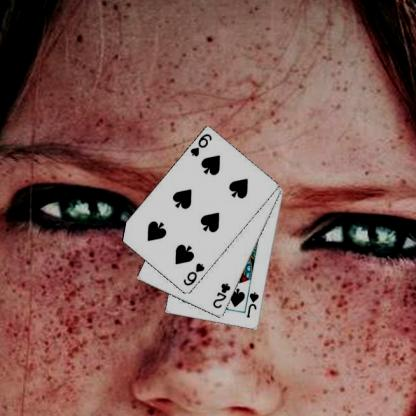2C: (210, 280, 231, 310)
6S: (180, 260, 206, 288), (188, 131, 213, 158)
JS: (244, 289, 260, 319)
